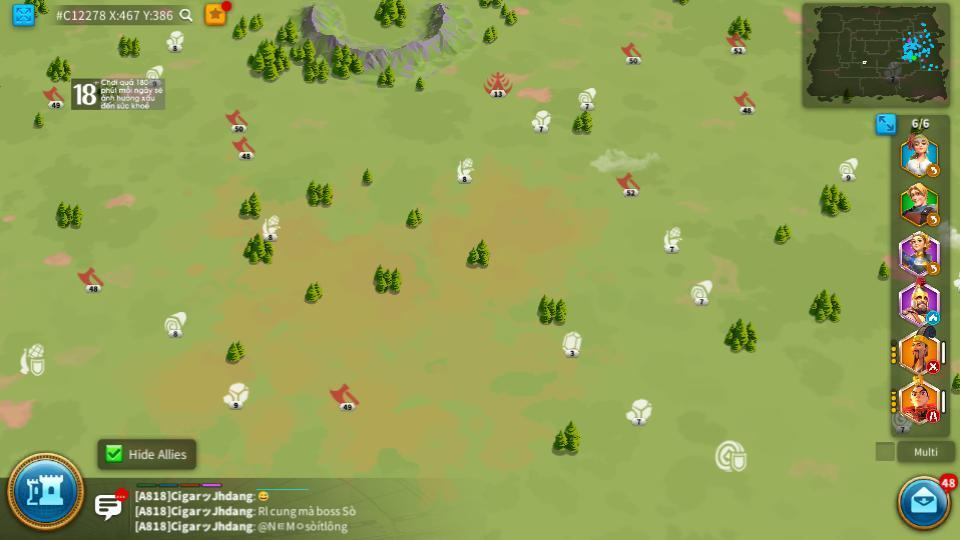gem-z-out: (560, 332, 582, 356)
march_attacking: (925, 411, 941, 422), (926, 362, 940, 373)
march_idle: (927, 312, 940, 324)
march_returning: (926, 165, 941, 177), (927, 214, 941, 225), (925, 263, 938, 274)
